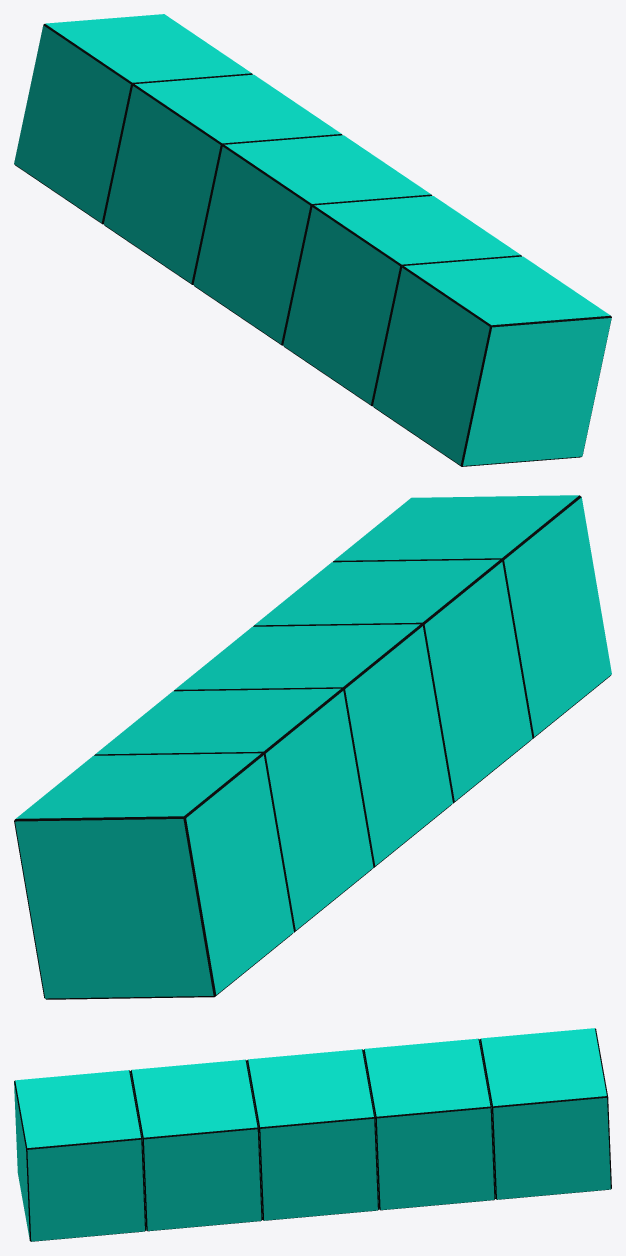
The picture shows the model from 3 angles, top to bottom: view 1: azimuth 30°, elevation 25°; view 2: azimuth 150°, elevation 25°; view 3: azimuth 270°, elevation 25°; orthographic projection. The views are drawn at different scales.
Parts seen in each view (by area): view 1: Cube.016, Cube.014, Cube.015, Cube.012, Cube.013; view 2: Cube.012, Cube.014, Cube.015, Cube.016, Cube.013; view 3: Cube.016, Cube.013, Cube.015, Cube.012, Cube.014.
Boxes of the visible parts, left/top/right/bottom form: Cube.016: left=373, top=256, right=611, bottom=466; Cube.014: left=193, top=135, right=432, bottom=345; Cube.015: left=283, top=196, right=521, bottom=406; Cube.012: left=14, top=14, right=252, bottom=224; Cube.013: left=103, top=74, right=342, bottom=284; Cube.012: left=14, top=753, right=293, bottom=999; Cube.014: left=174, top=624, right=452, bottom=868; Cube.015: left=253, top=559, right=532, bottom=803; Cube.016: left=333, top=495, right=611, bottom=739; Cube.013: left=94, top=688, right=373, bottom=932; Cube.016: left=14, top=1070, right=145, bottom=1241; Cube.013: left=363, top=1038, right=495, bottom=1210; Cube.015: left=130, top=1059, right=262, bottom=1231; Cube.012: left=480, top=1028, right=611, bottom=1199; Cube.014: left=247, top=1049, right=378, bottom=1220.
Size of the model in its own units: 165 by 144 by 510.
